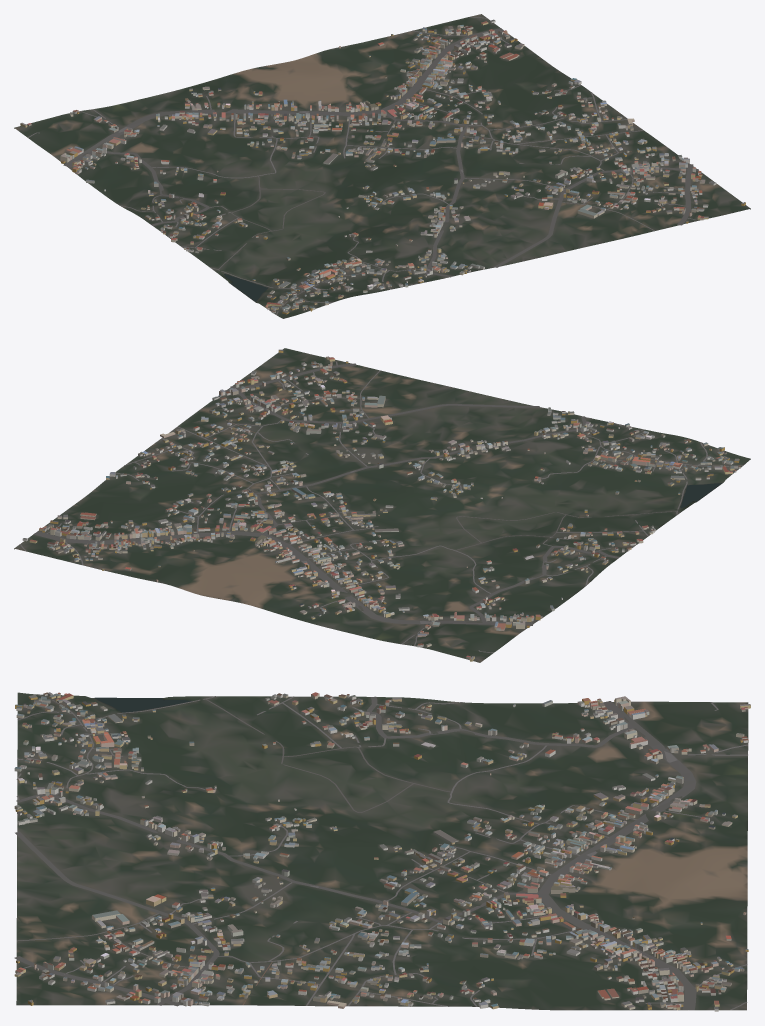
3 views of the same model, one above another, from view 1: azimuth 30°, elevation 25°; view 2: azimuth 150°, elevation 25°; view 3: azimuth 270°, elevation 25° (orthographic). The views are drawn at different scales.
Parts seen in each view (by area): view 1: ground, buildings, roads; view 2: ground, buildings, roads; view 3: ground, buildings, roads, water.
Part boxes in pixels (x1=…): ground: x1=14, y1=14, x2=750, y2=318; buildings: x1=20, y1=19, x2=745, y2=314; roads: x1=28, y1=16, x2=698, y2=314; ground: x1=14, y1=348, x2=750, y2=662; buildings: x1=22, y1=349, x2=740, y2=661; roads: x1=19, y1=361, x2=743, y2=652; ground: x1=16, y1=692, x2=748, y2=1010; buildings: x1=14, y1=692, x2=750, y2=1011; roads: x1=14, y1=694, x2=747, y2=1010; water: x1=95, y1=697, x2=192, y2=712.
Bounding box in the file's own units: 1418 × 46.49 × 1414.
